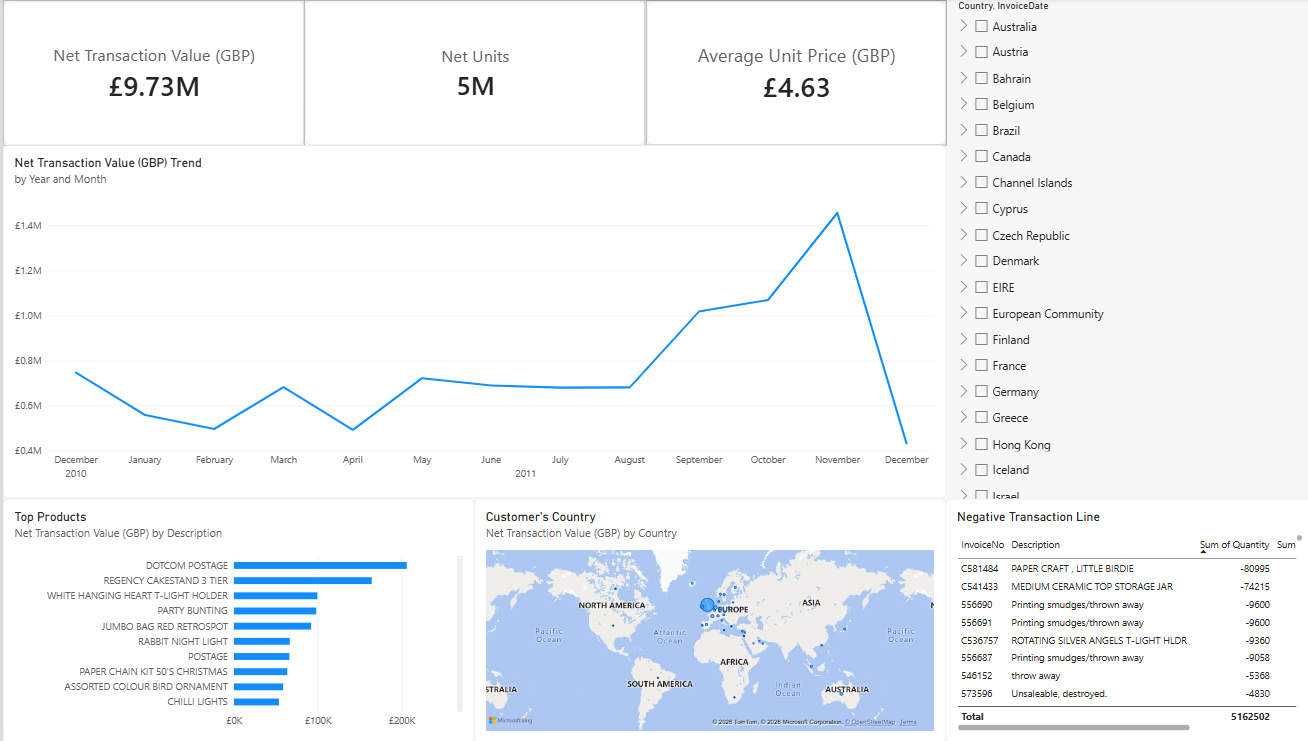

The page's visual inventory and layout, read from the dashboard file:
{"tool":"powerbi","page":{"name":"Page 1","canvas":[1920,1080],"ordinal":0},"visuals":[{"type":"cardVisual","fields":{"Data":["OnlineRetail.Net Transaction Value (GBP)"]},"box":[0,0,438.4,212],"z":0},{"type":"cardVisual","fields":{"Data":["OnlineRetail.Net Units"]},"box":[438.4,0,496.1,212],"z":1000},{"type":"cardVisual","fields":{"Data":["OnlineRetail.Average Unit Price (GBP)"]},"box":[934.5,0,438,212],"z":2000},{"type":"lineChart","title":"Net Transaction Value (GBP) Trend","fields":{"Category":["OnlineRetail.InvoiceDate.Variation.Date Hierarchy.Year","OnlineRetail.InvoiceDate.Variation.Date Hierarchy.Month"],"Y":["OnlineRetail.Net Transaction Value (GBP)"]},"box":[0,211.7,1371.7,513.9],"z":3000},{"type":"clusteredBarChart","title":"Top Products","fields":{"Category":["OnlineRetail.Description"],"Y":["OnlineRetail.Net Transaction Value (GBP)"]},"box":[0,725.7,685.9,354.7],"z":4000},{"type":"map","title":"Customer''s Country","fields":{"Category":["OnlineRetail.Country"],"Size":["OnlineRetail.Net Transaction Value (GBP)"]},"box":[686,726,686,354],"z":5000},{"type":"slicer","fields":{"Values":["OnlineRetail.Country","OnlineRetail.InvoiceDate"]},"box":[1382.6,0,537.5,725.7],"z":6000},{"type":"tableEx","title":"Negative Transaction Line","fields":{"Values":["OnlineRetail.InvoiceNo","OnlineRetail.Description","Sum(OnlineRetail.Quantity)","Sum(OnlineRetail.LineValueGBP)","Sum(OnlineRetail.UnitPrice)"]},"box":[1370.9,725.5,536.4,354.5],"z":7000}]}

Visuals, with their boxes in screenshot pixels (x1, y1, x2, y2), scaled from the page's 1920x1080 canvas onto the 1308x741 screenshot:
cardVisual - OnlineRetail.Net Transaction Value (GBP): Rect(0, 0, 299, 145)
cardVisual - OnlineRetail.Net Units: Rect(299, 0, 637, 145)
cardVisual - OnlineRetail.Average Unit Price (GBP): Rect(637, 0, 935, 145)
"Net Transaction Value (GBP) Trend" lineChart: Rect(0, 145, 934, 498)
"Top Products" clusteredBarChart: Rect(0, 498, 467, 740)
"Customer''s Country" map: Rect(467, 498, 935, 740)
slicer - OnlineRetail.Country x OnlineRetail.InvoiceDate: Rect(942, 0, 1307, 498)
"Negative Transaction Line" tableEx: Rect(934, 498, 1299, 740)
